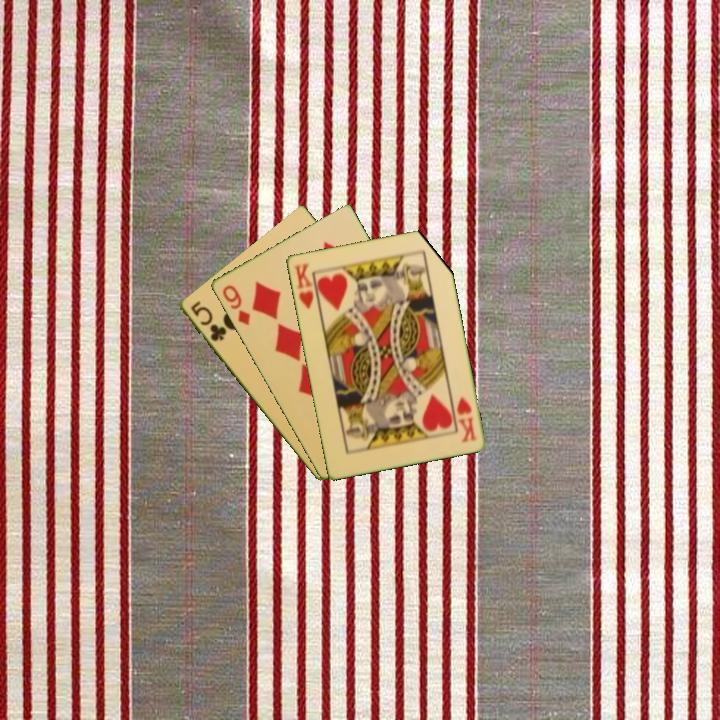5c: (187, 297, 229, 344)
9d: (218, 281, 253, 329)
Kh: (290, 260, 321, 313), (453, 393, 480, 445)
